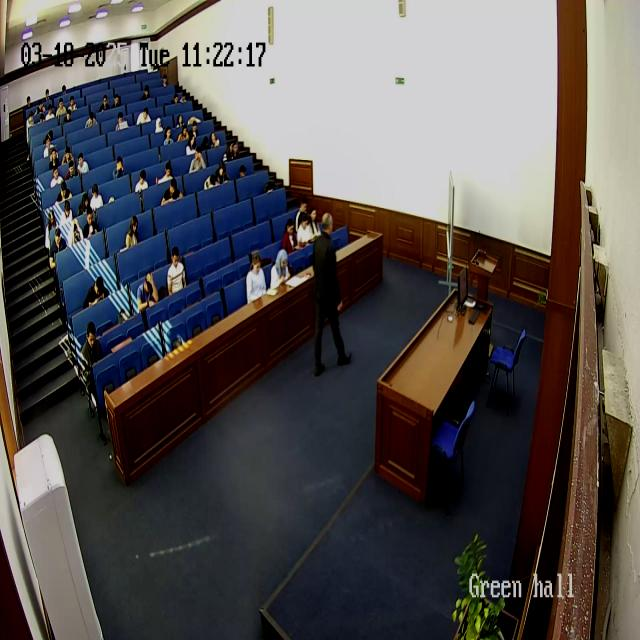person: (311, 212, 351, 374), (80, 321, 106, 413), (50, 223, 68, 294), (246, 251, 267, 305), (137, 269, 159, 315), (167, 245, 187, 295), (270, 248, 292, 290), (83, 276, 107, 310), (297, 211, 315, 248), (160, 178, 181, 205), (46, 207, 58, 253), (282, 219, 298, 253), (69, 220, 85, 250), (125, 216, 139, 249), (189, 148, 206, 174), (84, 209, 99, 238), (198, 167, 217, 189), (135, 169, 149, 198), (89, 184, 103, 212), (77, 191, 91, 219), (156, 161, 173, 184), (57, 183, 73, 207), (64, 158, 78, 185), (309, 207, 321, 238), (217, 157, 231, 183), (50, 164, 64, 188), (295, 195, 309, 219), (46, 148, 62, 169), (75, 152, 89, 175), (42, 134, 54, 160), (112, 156, 126, 178), (24, 95, 34, 125), (175, 121, 190, 141), (114, 111, 128, 132), (43, 102, 57, 123), (186, 132, 198, 154), (222, 138, 233, 162), (162, 125, 175, 145), (137, 107, 151, 125), (236, 164, 248, 184), (55, 103, 68, 121), (62, 145, 74, 163), (84, 116, 98, 130), (154, 118, 166, 134), (99, 95, 111, 111), (36, 104, 46, 123), (173, 112, 183, 130), (111, 91, 120, 111), (209, 133, 219, 151), (232, 140, 241, 159), (68, 90, 76, 110), (171, 88, 180, 104), (144, 85, 152, 102), (44, 85, 52, 102), (180, 86, 188, 102), (162, 73, 170, 87), (190, 120, 198, 134), (62, 80, 68, 95)
